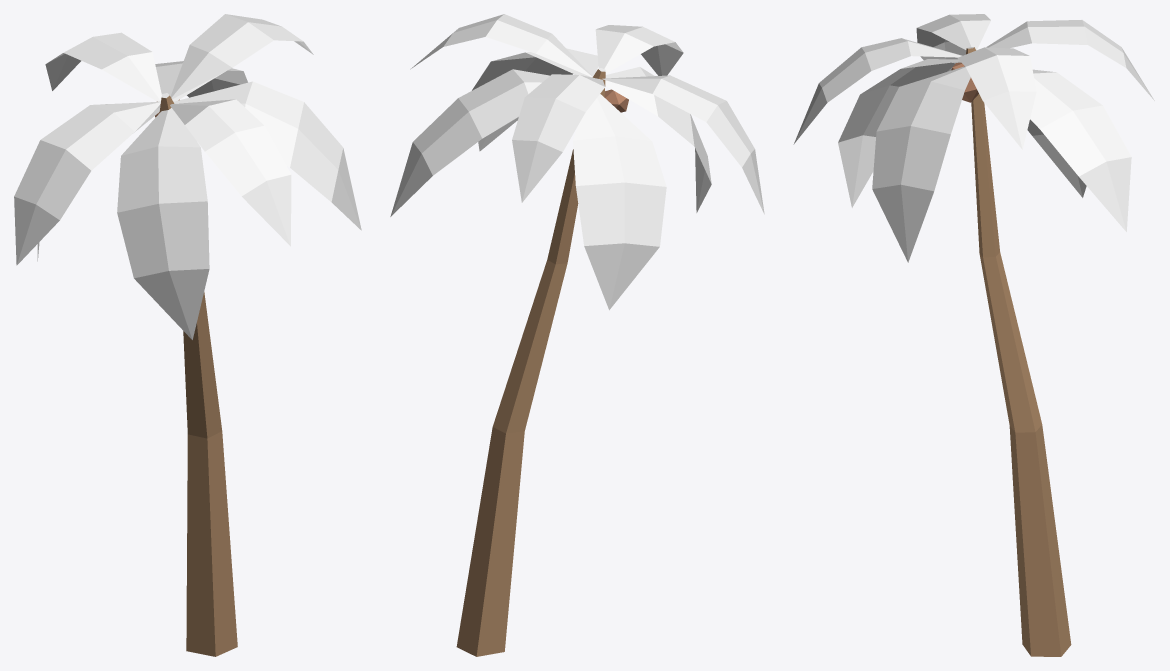
File: Palm_Tree_Coconut_OneSided_m_Snow_06.fbx
3 renders of one model, left to right at view 1: azimuth 30°, elevation 25°; view 2: azimuth 150°, elevation 25°; view 3: azimuth 270°, elevation 25°, orthographic. The views are drawn at different scales.
Parts seen in each view (by area): view 1: Palm_Tree_Coconut_OneSided_m_Snow_06; view 2: Palm_Tree_Coconut_OneSided_m_Snow_06; view 3: Palm_Tree_Coconut_OneSided_m_Snow_06.
Part boxes in pixels (box(x1,y1,x2,y2)): Palm_Tree_Coconut_OneSided_m_Snow_06: box(14, 14, 361, 656); Palm_Tree_Coconut_OneSided_m_Snow_06: box(390, 14, 764, 656); Palm_Tree_Coconut_OneSided_m_Snow_06: box(793, 14, 1154, 656).
Bounding box in the file's own units: 290 × 526 × 289.
